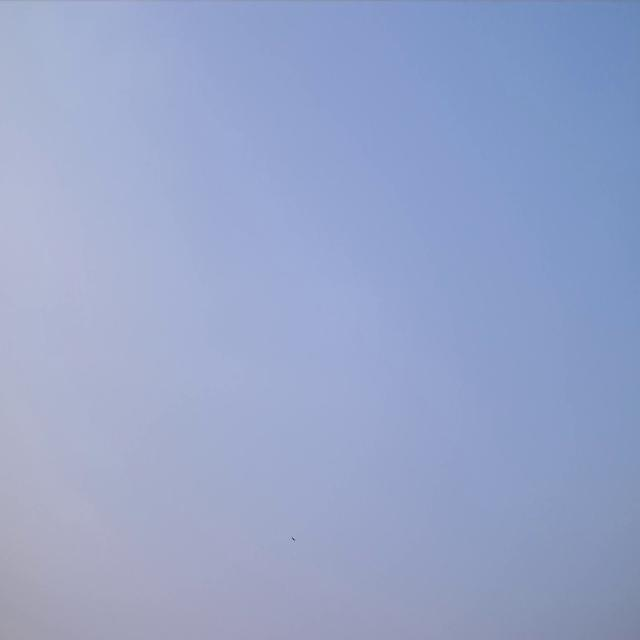UAV: (291, 536, 296, 542)
